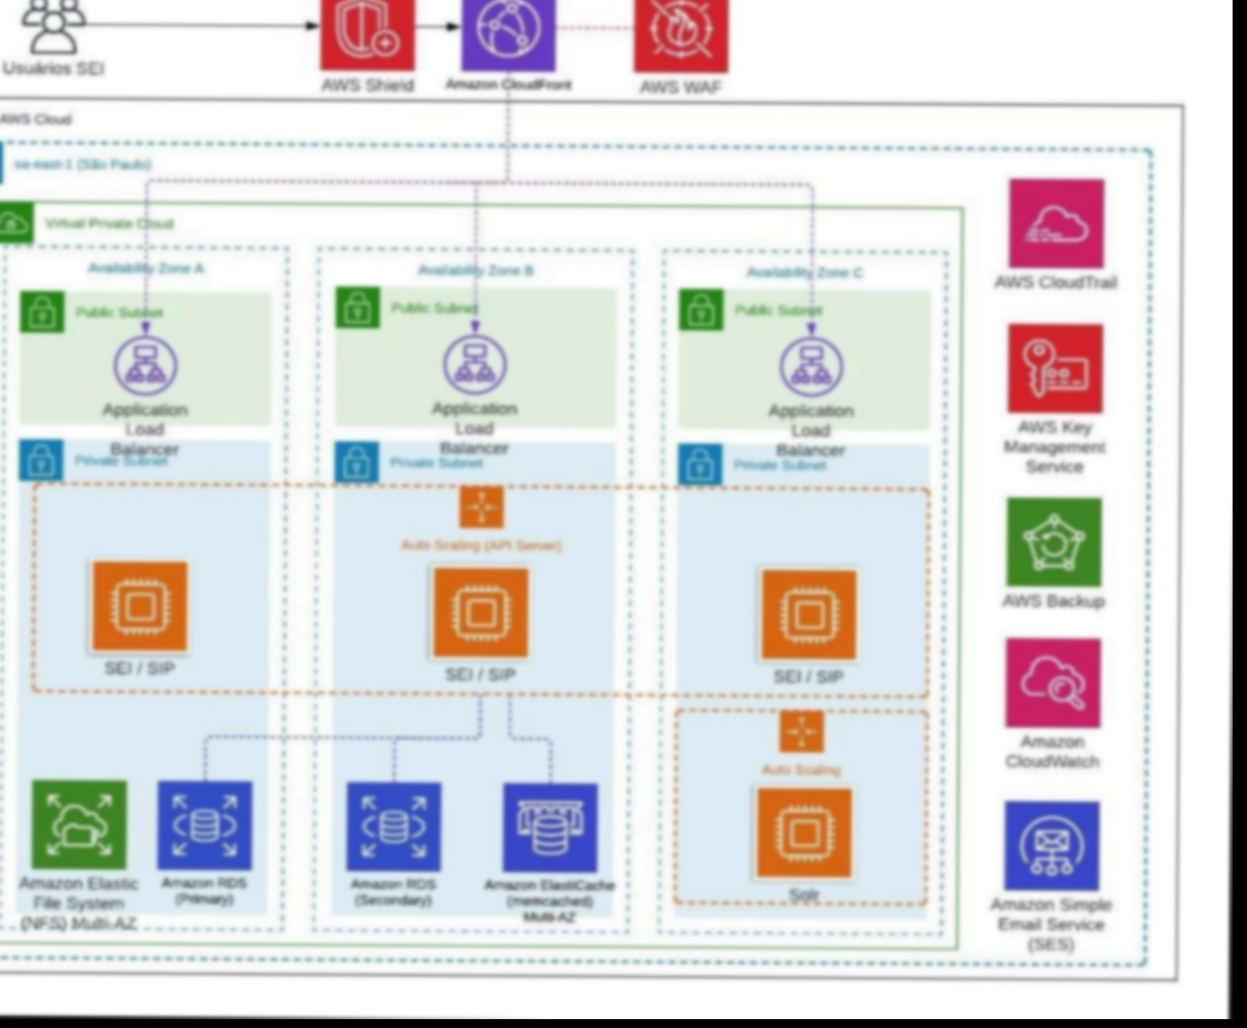aws_application_load_balancer: (108, 333, 179, 395), (774, 334, 845, 396), (437, 332, 508, 394)
aws_autoscaling: (459, 484, 501, 527), (779, 709, 822, 750)
aws_backup: (1007, 495, 1099, 585)
aws_cloud_trail: (1009, 176, 1101, 266)
aws_cloudfront: (458, 0, 555, 72)
aws_cloudwatch: (1006, 640, 1097, 727)
aws_elactic_file_system(nfs)_multi-az: (32, 779, 125, 869)
aws_elasticache: (500, 785, 596, 874)
aws_key_management_service: (1006, 322, 1103, 414)
aws_private_subnet: (676, 442, 720, 487), (335, 439, 378, 481), (18, 438, 62, 479)
aws_public_subnet: (317, 0, 414, 72), (17, 288, 64, 333), (334, 284, 378, 329), (679, 288, 720, 329)
aws_rds: (160, 781, 252, 867), (347, 782, 440, 867)
aws_region: (0, 139, 3, 183)
aws_simple_email_service: (1003, 800, 1099, 892)
aws_virtual_private_cloud: (0, 201, 34, 243)
aws_waf: (626, 0, 730, 75)
sei/sip: (429, 562, 528, 657), (89, 557, 189, 652), (757, 564, 856, 659)
solr: (756, 785, 849, 873)
user: (11, 0, 92, 54)
